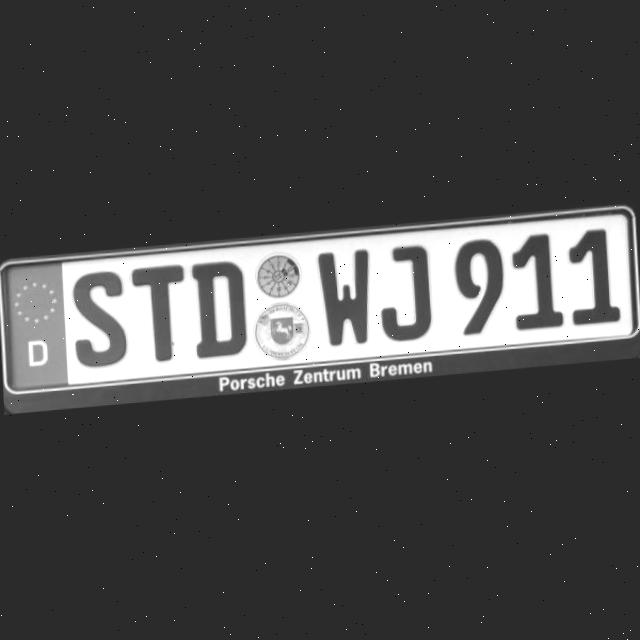license-plates: (2, 213, 634, 392)
